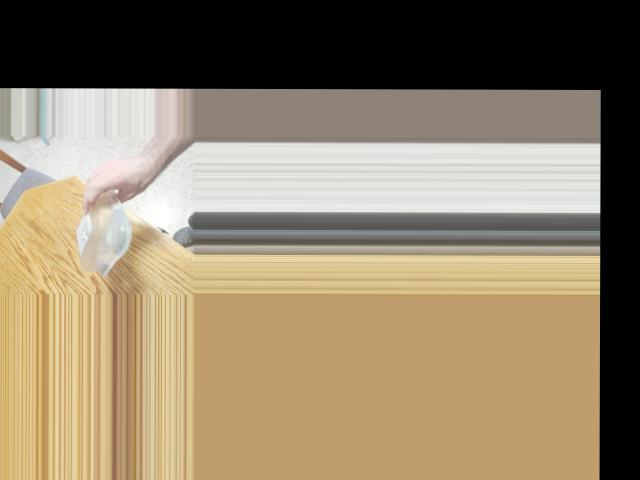cheese: (74, 172, 127, 276)
